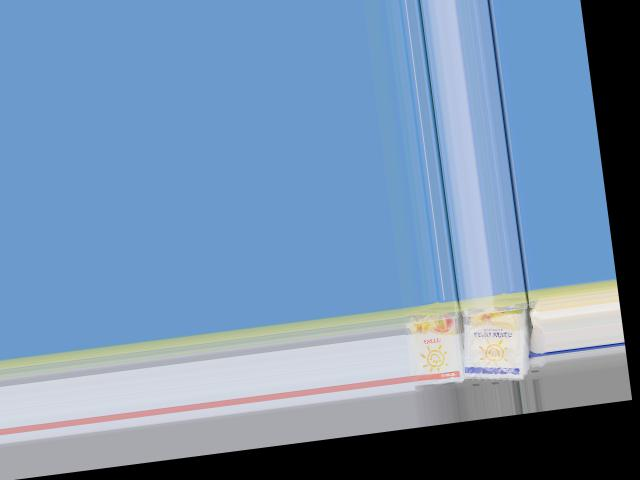cheese: (400, 300, 465, 392)
